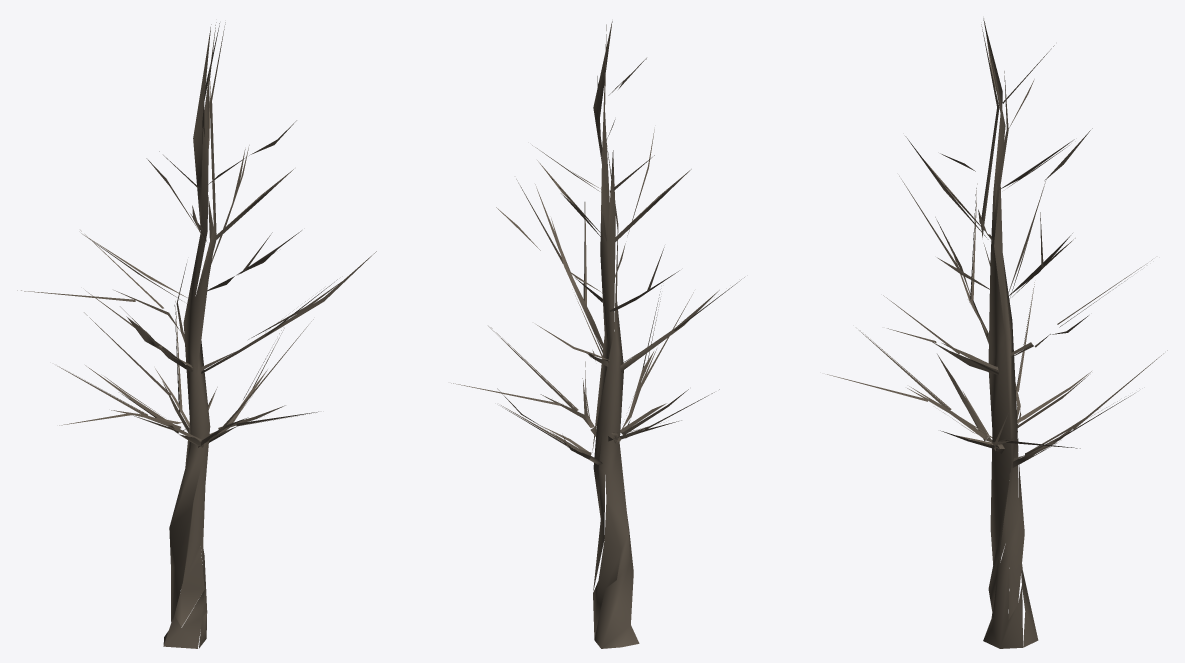
Rendered from hetre_mort_l1.glb.
3 renders of one model, left to right at view 1: azimuth 30°, elevation 25°; view 2: azimuth 150°, elevation 25°; view 3: azimuth 270°, elevation 25°, orthographic. The views are drawn at different scales.
Visible parts, largest first — view 1: Tree_0; view 2: Tree_0; view 3: Tree_0.
Part boxes in pixels (x1,y1,x2,y2): Tree_0: [17, 22, 376, 648]; Tree_0: [451, 21, 744, 648]; Tree_0: [827, 18, 1167, 648].
Size of the model in its own units: 16.98 by 31.84 by 16.11.
